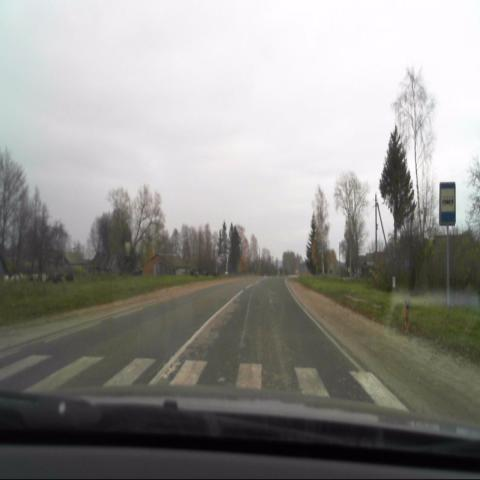5_16: (438, 181, 457, 225)
